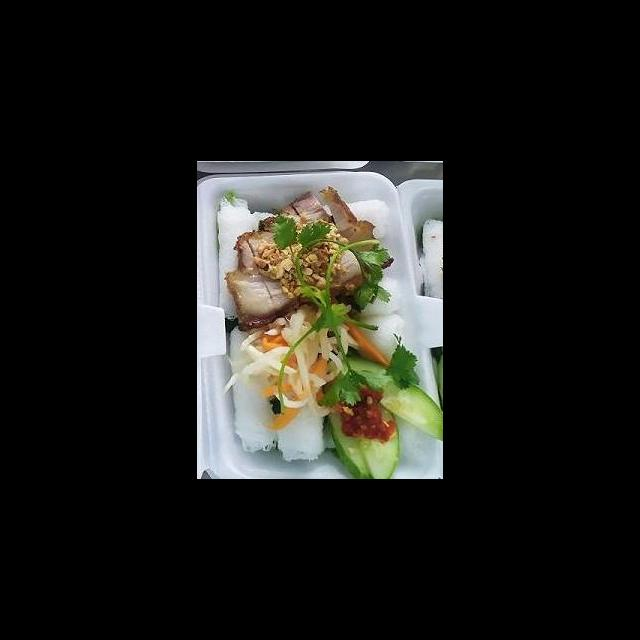banh hoi: (226, 318, 279, 456), (211, 190, 261, 324), (272, 368, 328, 464), (320, 197, 394, 243), (352, 311, 406, 371), (346, 271, 406, 320)
banh hoi heo quay: (199, 181, 443, 477)
dua chua: (237, 296, 366, 434)
thit heo quay: (253, 189, 367, 308), (221, 226, 302, 333), (317, 182, 396, 274)
